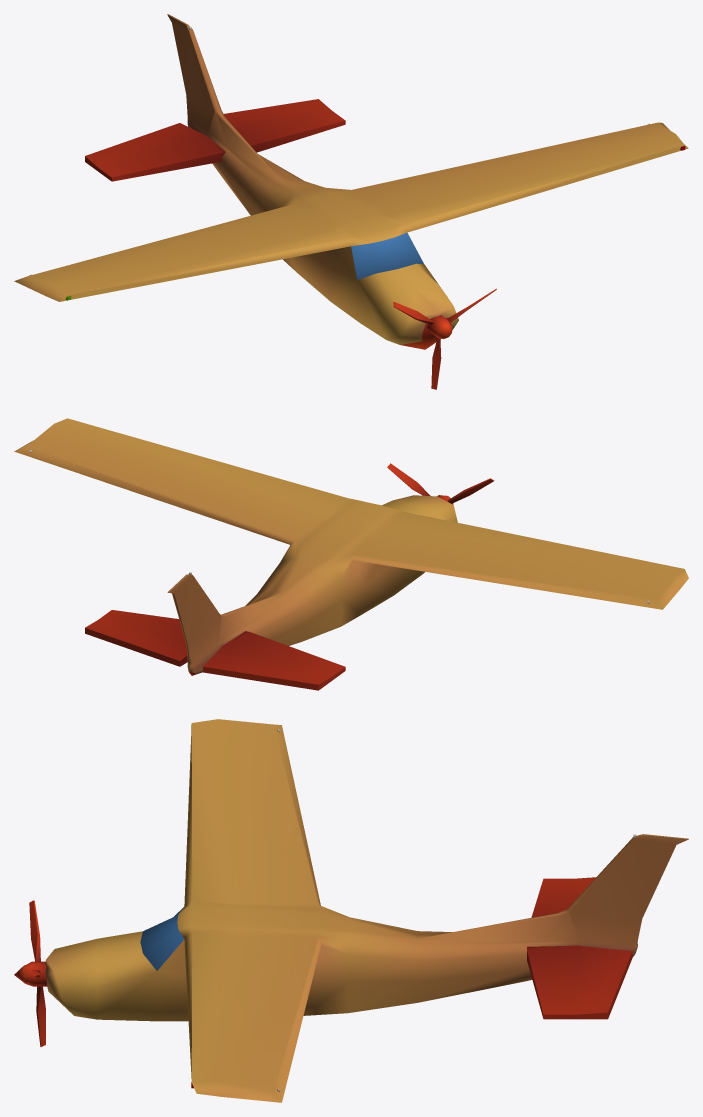
3 renders of one model, top to bottom at view 1: azimuth 30°, elevation 25°; view 2: azimuth 150°, elevation 25°; view 3: azimuth 270°, elevation 25°, orthographic. The views are drawn at different scales.
Visible parts, largest first — view 1: color.066; view 2: color.066; view 3: color.066.
Boxes of the visible parts, box(x1,y1,x2,y2) form: color.066: box(14, 14, 688, 389); color.066: box(14, 418, 688, 690); color.066: box(14, 719, 688, 1102).
Bounding box in the file's own units: 50 × 13.22 × 37.76.
